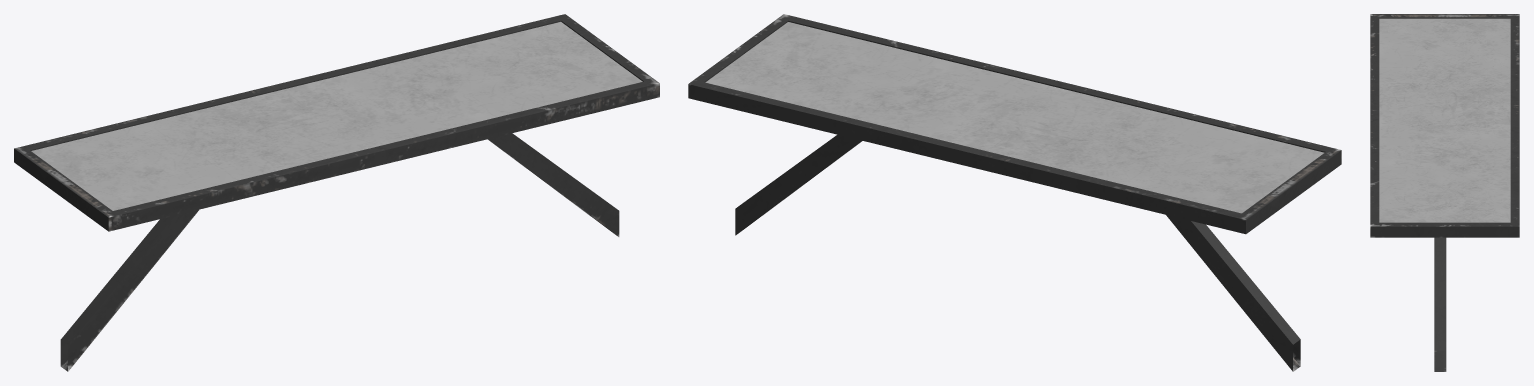
Rendered from Desk.fbx.
3 renders of one model, left to right at view 1: azimuth 30°, elevation 25°; view 2: azimuth 150°, elevation 25°; view 3: azimuth 270°, elevation 25°, orthographic. The views are drawn at different scales.
Parts seen in each view (by area): view 1: Desk; view 2: Desk; view 3: Desk.
Boxes of the visible parts, <box> form: Desk: <box>14,14,659,371</box>; Desk: <box>688,14,1341,371</box>; Desk: <box>1370,14,1519,371</box>.
Size of the model in its own units: 166 by 52.99 by 49.39.
